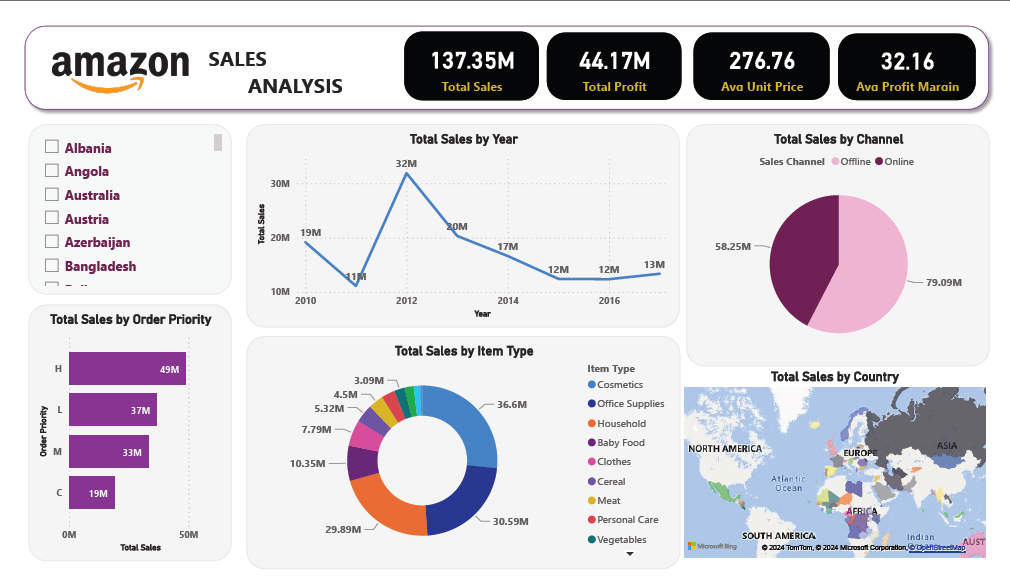

Layout of this report page (visuals, bound fields, positions):
{"tool":"powerbi","page":{"name":"1-2-3-4-5-6-7-9-10-","canvas":[1280,720],"ordinal":0},"visuals":[{"type":"shape","box":[0,0,1280,126.7],"z":3500},{"type":"filledMap","title":"Total Sales by Country","fields":{"Category":["amazon_sales_data.Country"],"Series":["amazon_sales_data.Total Revenue"]},"box":[866.7,456.7,405,251.7],"z":4000},{"type":"donutChart","title":"Total Sales by Item Type","fields":{"Category":["amazon_sales_data.Item Type"],"Y":["Sum(amazon_sales_data.Total Revenue)"]},"box":[298.3,415,568.3,305],"z":5000},{"type":"lineChart","title":"Total Sales by Year","fields":{"Category":["amazon_sales_data.Order Date.Variation.Date Hierarchy.Year"],"Y":["Sum(amazon_sales_data.Total Revenue)"]},"box":[298.6,137.1,567.1,265.7],"z":6000},{"type":"barChart","title":"Total Sales by Order Priority","fields":{"Y":["Sum(amazon_sales_data.Total Revenue)"],"Category":["amazon_sales_data.Order Priority"]},"box":[12.9,372.9,265.7,335.7],"z":7000},{"type":"pieChart","title":"Total Sales by Channel","fields":{"Category":["amazon_sales_data.Sales Channel"],"Y":["Sum(amazon_sales_data.Total Revenue)"]},"box":[875,136.7,396.7,316.7],"z":8000},{"type":"card","fields":{"Values":["Sum(amazon_sales_data.Total Revenue)"]},"box":[505.6,15.6,175.6,90],"z":8500},{"type":"card","fields":{"Values":["Sum(amazon_sales_data.Total Profit)"]},"box":[692.2,17.8,175.6,87.8],"z":9000},{"type":"card","fields":{"Values":["amazon_sales_data.Average Profit Margin"]},"box":[1073.3,18.9,180,86.7],"z":9500},{"type":"card","fields":{"Values":["Avg(amazon_sales_data.Unit Price)"]},"box":[883.3,17.8,177.8,87.8],"z":10000},{"type":"image","box":[30,16,204,110],"z":10001},{"type":"slicer","fields":{"Values":["amazon_sales_data.Country"]},"box":[12.9,137.1,265.7,222.9],"z":10002},{"type":"textbox","box":[244.3,27.1,244.3,88.6],"z":10003}]}

Visuals, with their boxes in screenshot pixels (x1, y1, x2, y2), scaled from the page's 1280x720 canvas onto the 1010x578 screenshot:
shape: box=[0, 0, 1009, 102]
"Total Sales by Country" filledMap: box=[684, 367, 1003, 569]
"Total Sales by Item Type" donutChart: box=[235, 333, 684, 577]
"Total Sales by Year" lineChart: box=[236, 110, 683, 323]
"Total Sales by Order Priority" barChart: box=[10, 299, 220, 569]
"Total Sales by Channel" pieChart: box=[690, 110, 1003, 364]
card - Sum(amazon_sales_data.Total Revenue): box=[399, 13, 538, 85]
card - Sum(amazon_sales_data.Total Profit): box=[546, 14, 685, 85]
card - amazon_sales_data.Average Profit Margin: box=[847, 15, 989, 85]
card - Avg(amazon_sales_data.Unit Price): box=[697, 14, 837, 85]
image: box=[24, 13, 185, 101]
slicer - amazon_sales_data.Country: box=[10, 110, 220, 289]
textbox: box=[193, 22, 386, 93]
